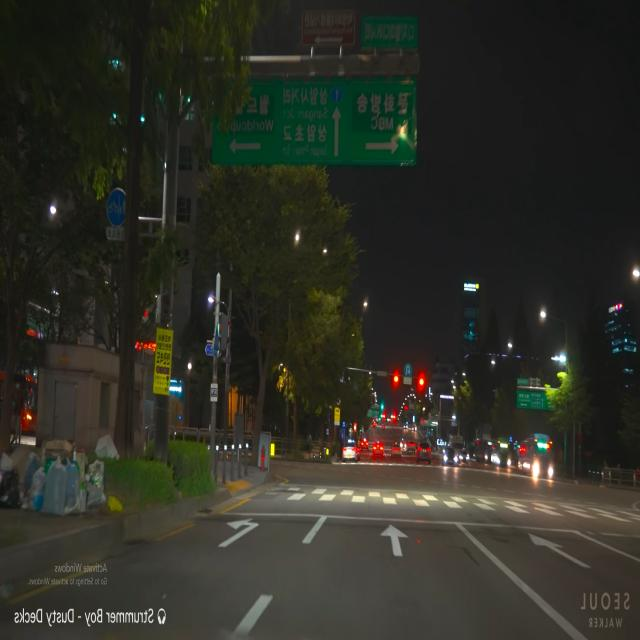headlights: (527, 458, 558, 485), (494, 451, 514, 474), (439, 450, 460, 471)
